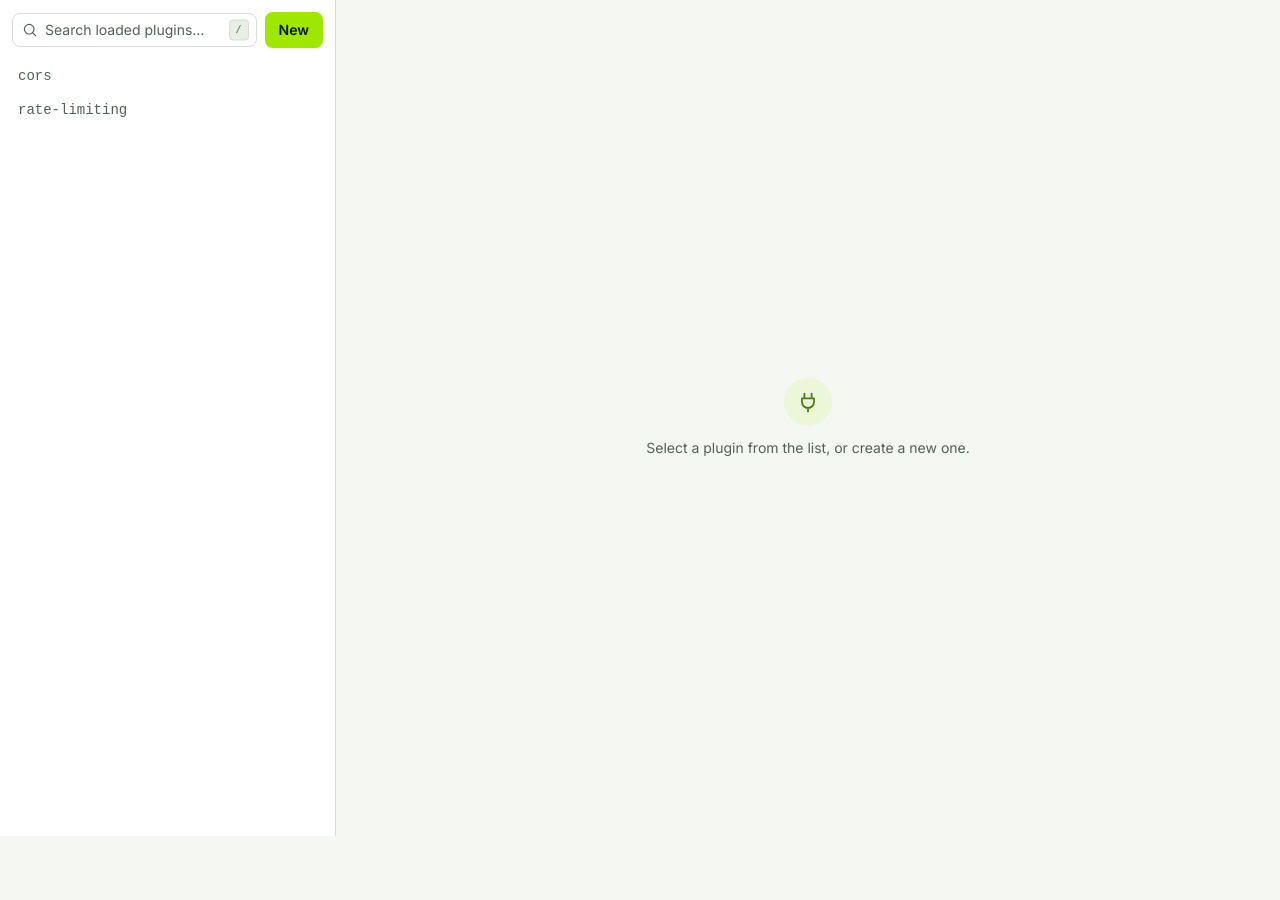
Test: LivePluginsView › will not create a plugin until one is chosen, and says so
Click the button "New".
click(294, 30)  # box left=264, top=12, right=323, bottom=48
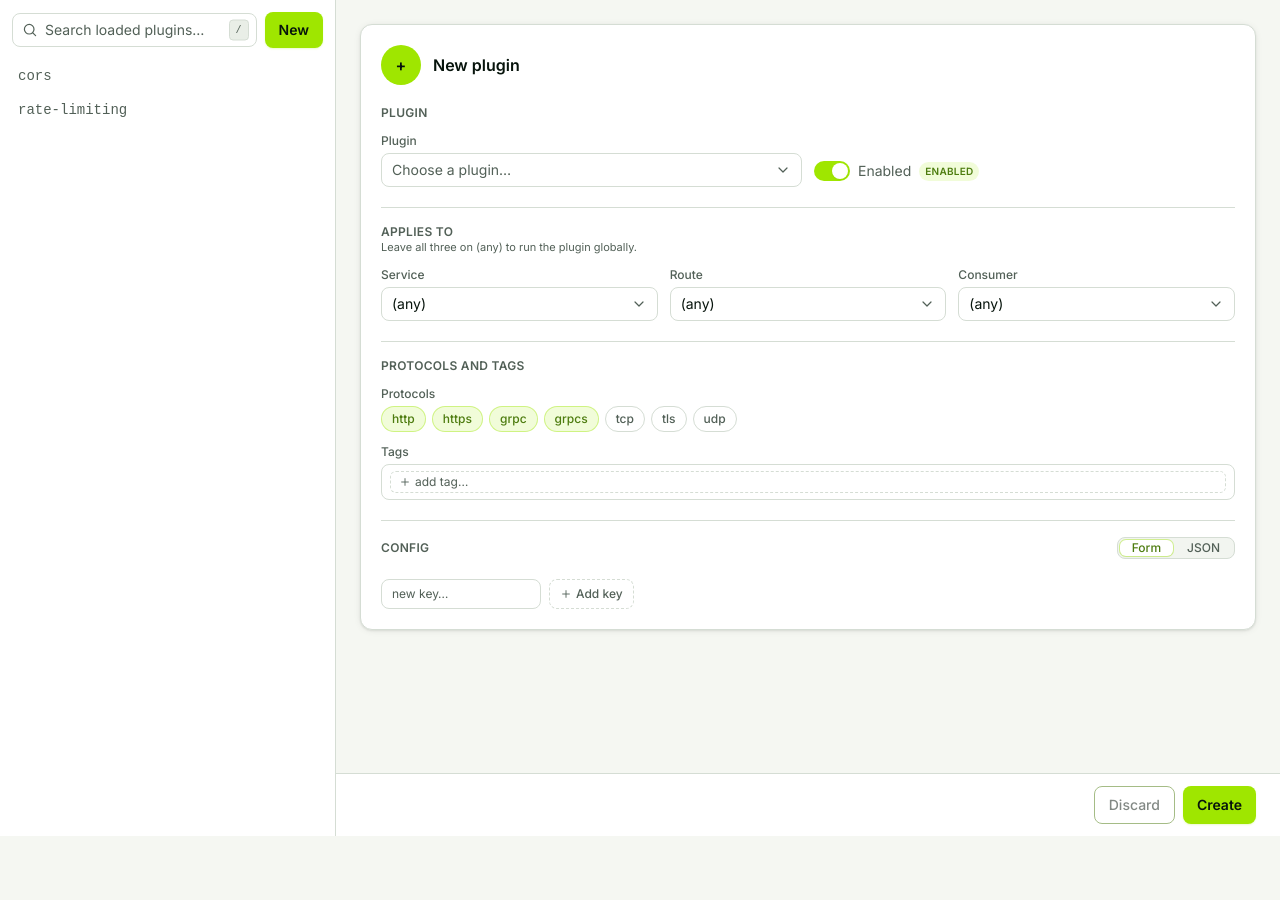
Click the button with test id "save".
click(1219, 805)  # box left=1183, top=786, right=1256, bottom=824
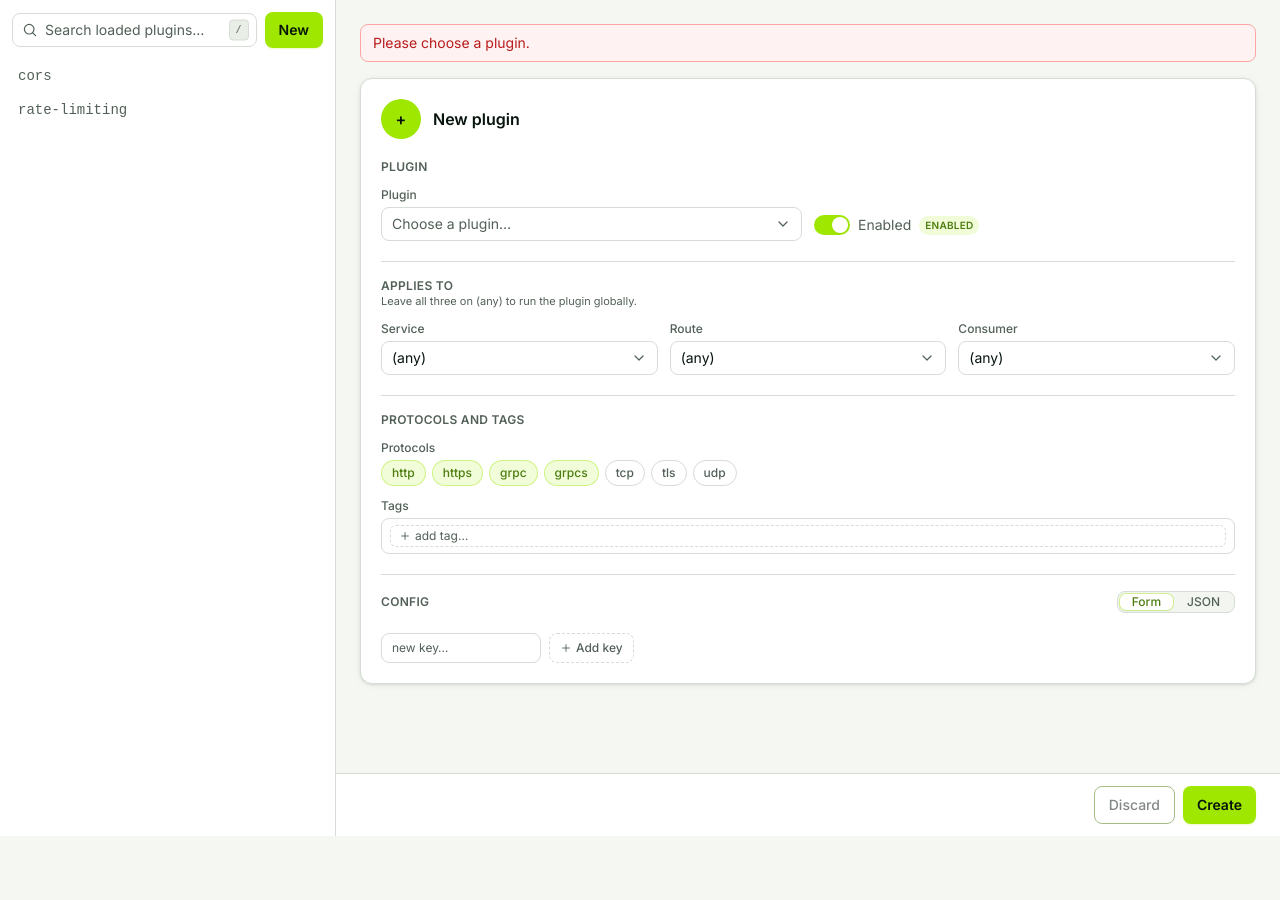
Expected: the text "Please choose a plugin." is shown, left=373, top=34, right=530, bottom=51
